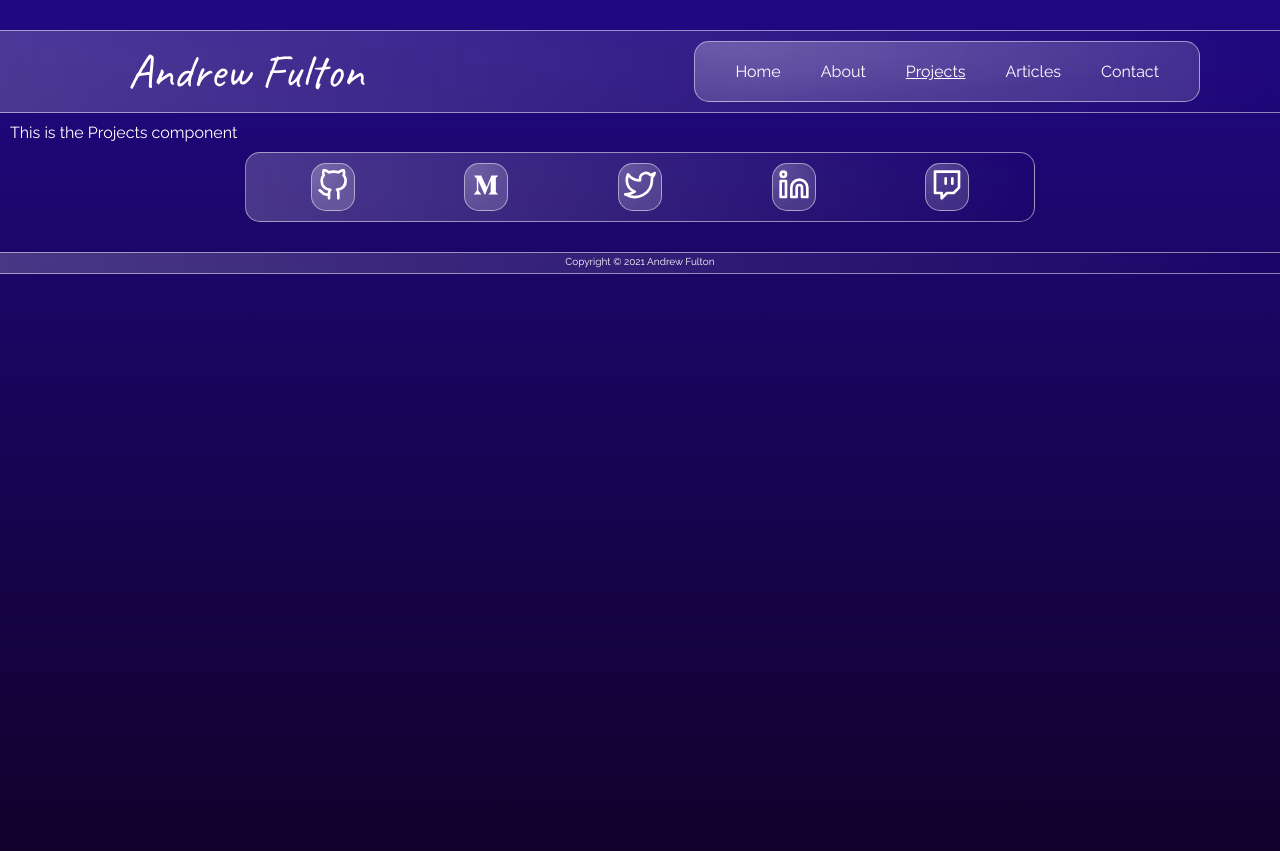
Test: Navigate to Contact component
The width and height of the screenshot is (1280, 851).
Click the link "Contact" at (1130, 72), box [1101,62,1159,81]
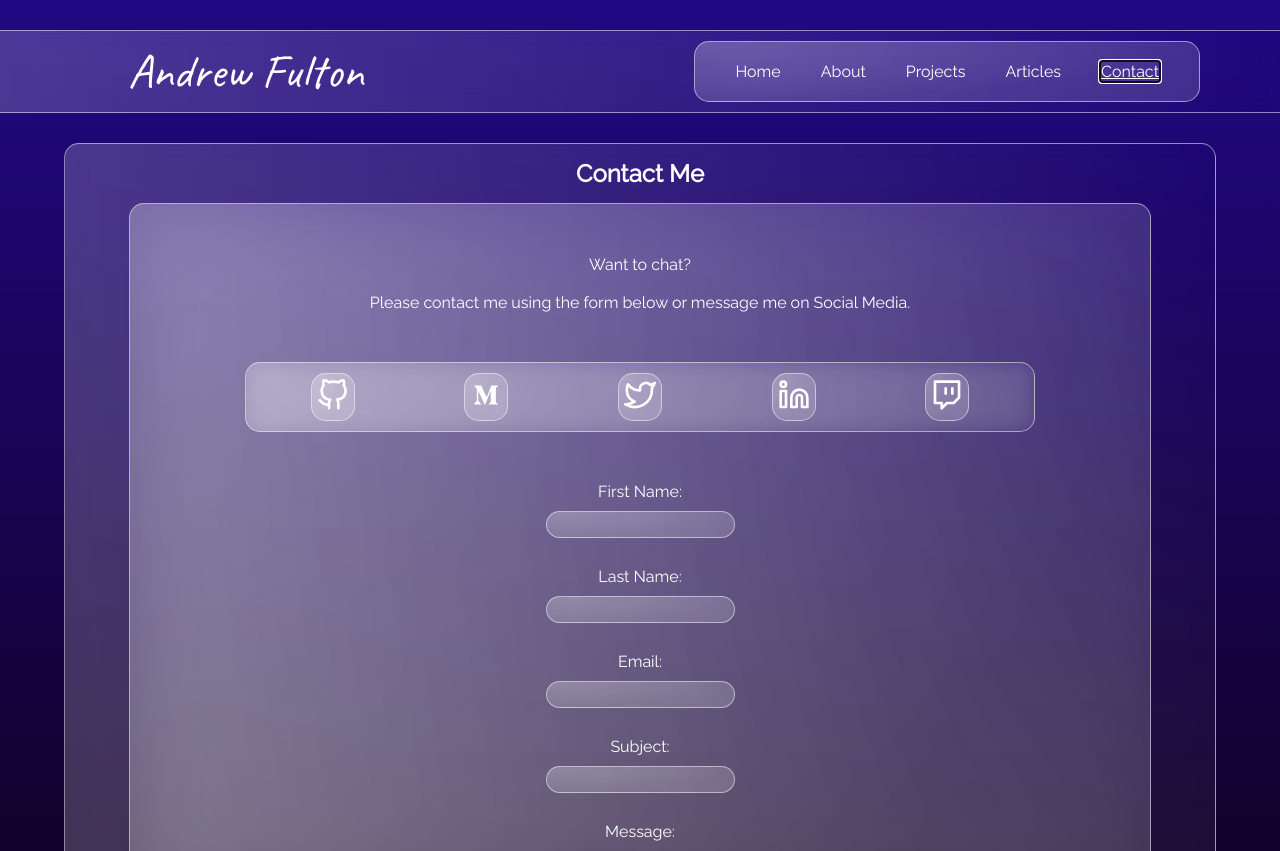
Result: the heading "Contact Me" is shown at [576,159,704,188]
